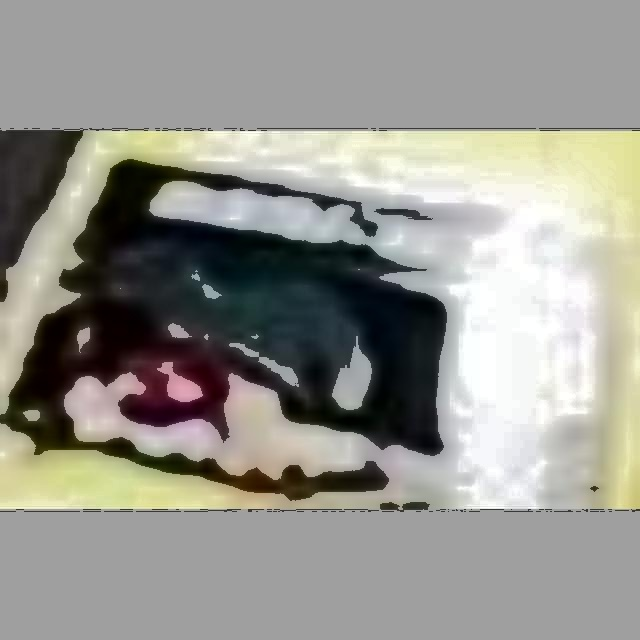tidak-pakai: (101, 215, 354, 400)
